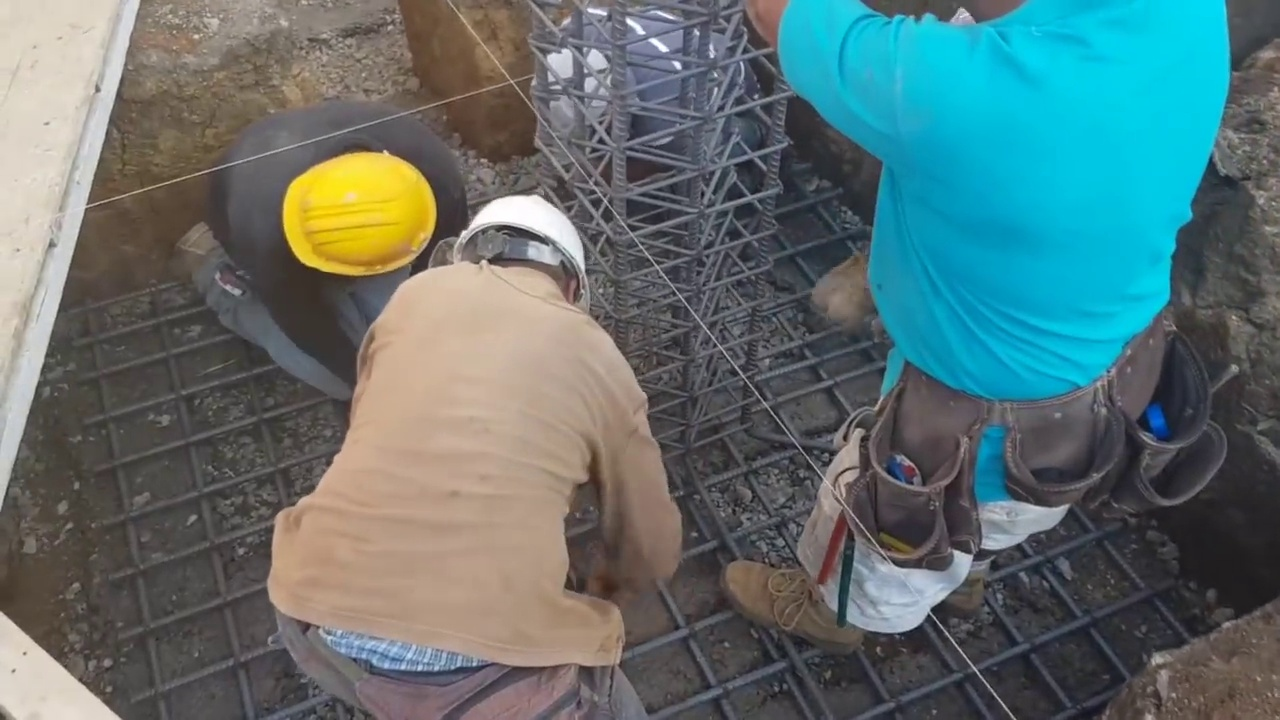helmet: (280, 160, 433, 275), (458, 194, 591, 310)
helmet-off: (534, 36, 632, 137)
helmet-on: (260, 137, 445, 301), (435, 192, 581, 319)
person: (716, 0, 1261, 647), (264, 194, 687, 720), (177, 103, 468, 384), (537, 0, 750, 202)
